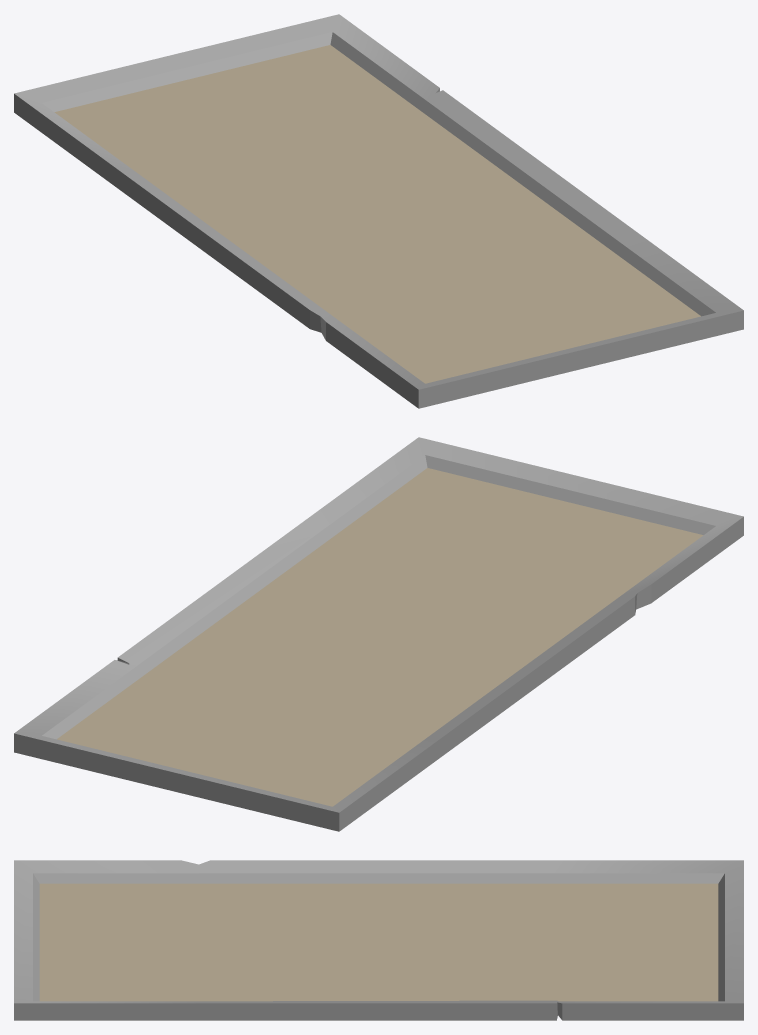
File: PaintingLarge.fbx
3 renders of one model, top to bottom at view 1: azimuth 30°, elevation 25°; view 2: azimuth 150°, elevation 25°; view 3: azimuth 270°, elevation 25°, orthographic. The views are drawn at different scales.
Parts seen in each view (by area): view 1: Picture, PaintingLarge; view 2: Picture, PaintingLarge; view 3: Picture, PaintingLarge.
Boxes of the visible parts, x1,y1,x2,y2 form: Picture: (54,45,700,383); PaintingLarge: (14,14,743,408); Picture: (57,468,703,806); PaintingLarge: (14,437,743,831); Picture: (39,883,718,1001); PaintingLarge: (14,860,743,1020).
Size of the model in its own units: 1.67 by 0.095 by 3.6.
